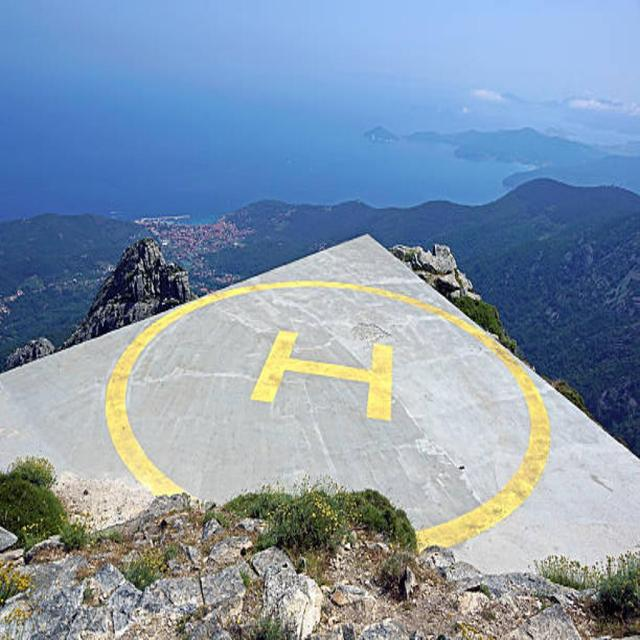helipad: (104, 274, 549, 530)
